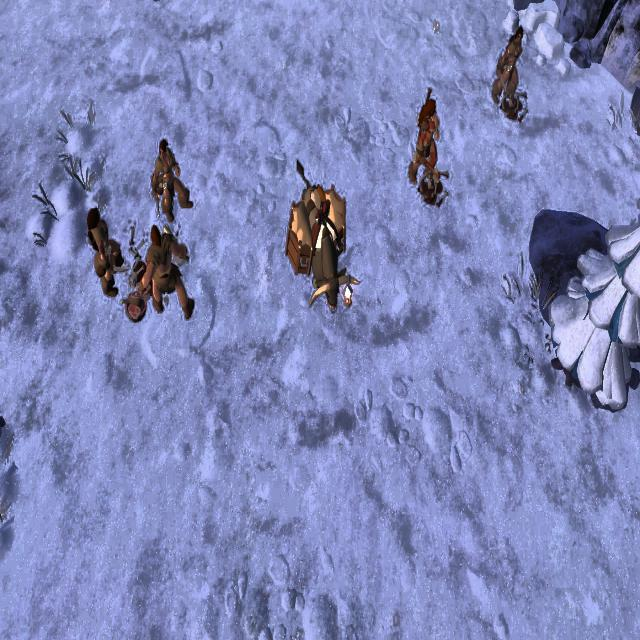enemy_factionKeeper: (142, 218, 194, 323), (86, 196, 120, 295), (154, 139, 191, 218), (409, 86, 438, 186), (489, 26, 525, 106)
